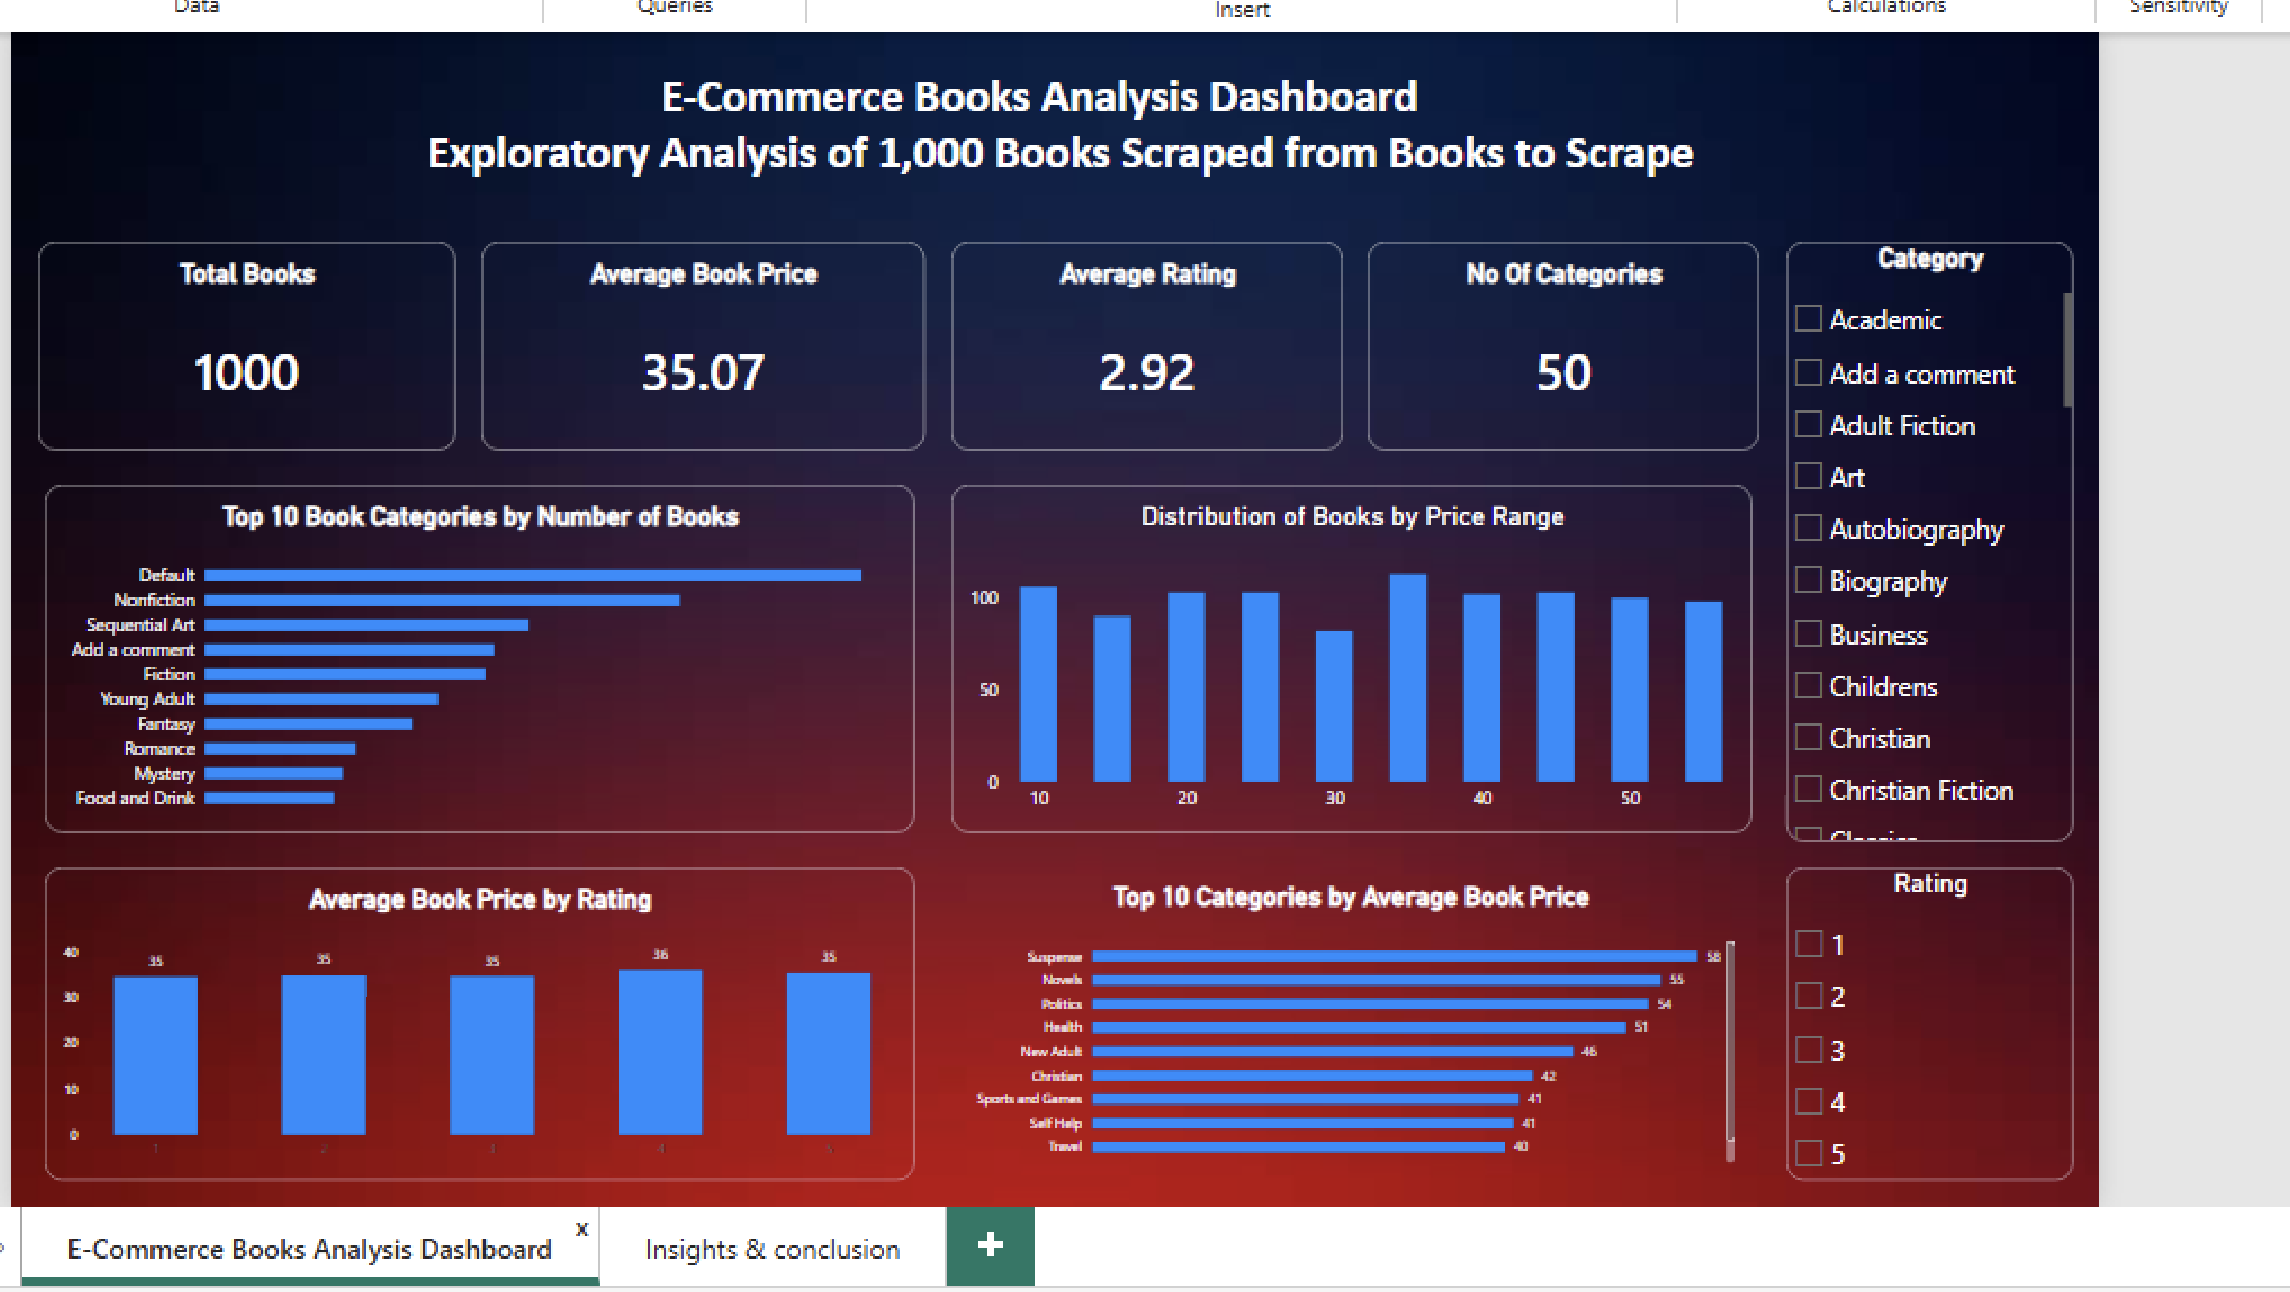

The page's visual inventory and layout, read from the dashboard file:
{"tool":"powerbi","page":{"name":"E-Commerce Books Analysis Dashboard   ","canvas":[1920,1080],"ordinal":0},"visuals":[{"type":"card","title":"Total Books","fields":{"Values":["CountNonNull(ecommerce_books books.Product_Name)"]},"box":[24,192,384,192],"z":0},{"type":"card","title":"Average Book Price","fields":{"Values":["Avg(ecommerce_books books.Price)"]},"box":[432,192,408,192],"z":1},{"type":"card","title":"Average Rating","fields":{"Values":["Avg(ecommerce_books books.Rating)"]},"box":[864,192,360,192],"z":2},{"type":"card","title":"No Of Categories","fields":{"Values":["Count(ecommerce_books books.Category)"]},"box":[1248,192,360,192],"z":3},{"type":"clusteredBarChart","title":"Top 10 Book Categories by Number of Books","fields":{"Category":["ecommerce_books books.Category"],"Y":["CountNonNull(ecommerce_books books.Product_Name)"]},"box":[32,416,800,320],"z":4},{"type":"clusteredColumnChart","title":"Distribution of Books by Price Range","fields":{"Category":["ecommerce_books books.Price (bins)"],"Y":["CountNonNull(ecommerce_books books.Product_Name)"]},"box":[864,416,736,320],"z":5},{"type":"clusteredColumnChart","title":"Average Book Price by Rating","fields":{"Category":["ecommerce_books books.Rating"],"Y":["Avg(ecommerce_books books.Price)"]},"box":[32,768,800,288],"z":6},{"type":"clusteredBarChart","title":"Top 10 Categories by Average Book Price","fields":{"Category":["ecommerce_books books.Category"],"Y":["Avg(ecommerce_books books.Price)"]},"box":[864,768,736,288],"z":7},{"type":"textbox","title":"E-Commerce Books Analysis Dashboard     Exploratory Analysis of 1,000 Books Scraped from Books to Scrape","box":[0,32,1920,128],"z":8},{"type":"slicer","title":"Category","fields":{"Values":["ecommerce_books books.Category"]},"box":[1632,192,264,552],"z":9},{"type":"slicer","title":"Rating","fields":{"Values":["ecommerce_books books.Rating"]},"box":[1632,768,264,288],"z":10}]}

Visuals, with their boxes on the page's 1920x1080 design canvas (x1, y1, x2, y2). These are canvas units, not pixel positions in the 2290x1292 screenshot, which may show the page scaled, cropped or inside an application window:
"Total Books" card: locate(24, 192, 408, 384)
"Average Book Price" card: locate(432, 192, 840, 384)
"Average Rating" card: locate(864, 192, 1224, 384)
"No Of Categories" card: locate(1248, 192, 1608, 384)
"Top 10 Book Categories by Number of Books" clusteredBarChart: locate(32, 416, 832, 736)
"Distribution of Books by Price Range" clusteredColumnChart: locate(864, 416, 1600, 736)
"Average Book Price by Rating" clusteredColumnChart: locate(32, 768, 832, 1056)
"Top 10 Categories by Average Book Price" clusteredBarChart: locate(864, 768, 1600, 1056)
"E-Commerce Books Analysis Dashboard     Exploratory Analysis of 1,000 Books Scraped from Books to Scrape" textbox: locate(0, 32, 1920, 160)
"Category" slicer: locate(1632, 192, 1896, 744)
"Rating" slicer: locate(1632, 768, 1896, 1056)
